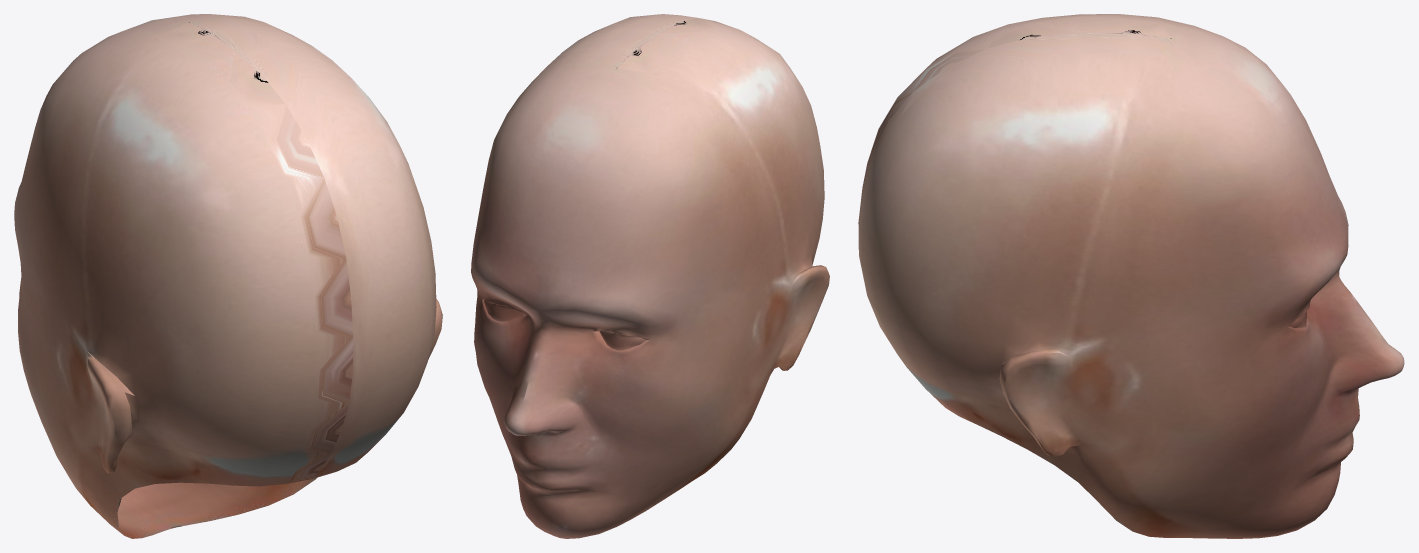
File: head_toy_dummy.glb
3 renders of one model, left to right at view 1: azimuth 30°, elevation 25°; view 2: azimuth 150°, elevation 25°; view 3: azimuth 270°, elevation 25°, orthographic. The views are drawn at different scales.
Parts seen in each view (by area): view 1: Object_2; view 2: Object_2; view 3: Object_2.
Boxes of the visible parts, <box> form: Object_2: <box>14,14,442,538</box>; Object_2: <box>471,14,829,538</box>; Object_2: <box>858,14,1404,538</box>.
Size of the model in its own units: 486 by 721 by 717.
1 material, 1 textured.
